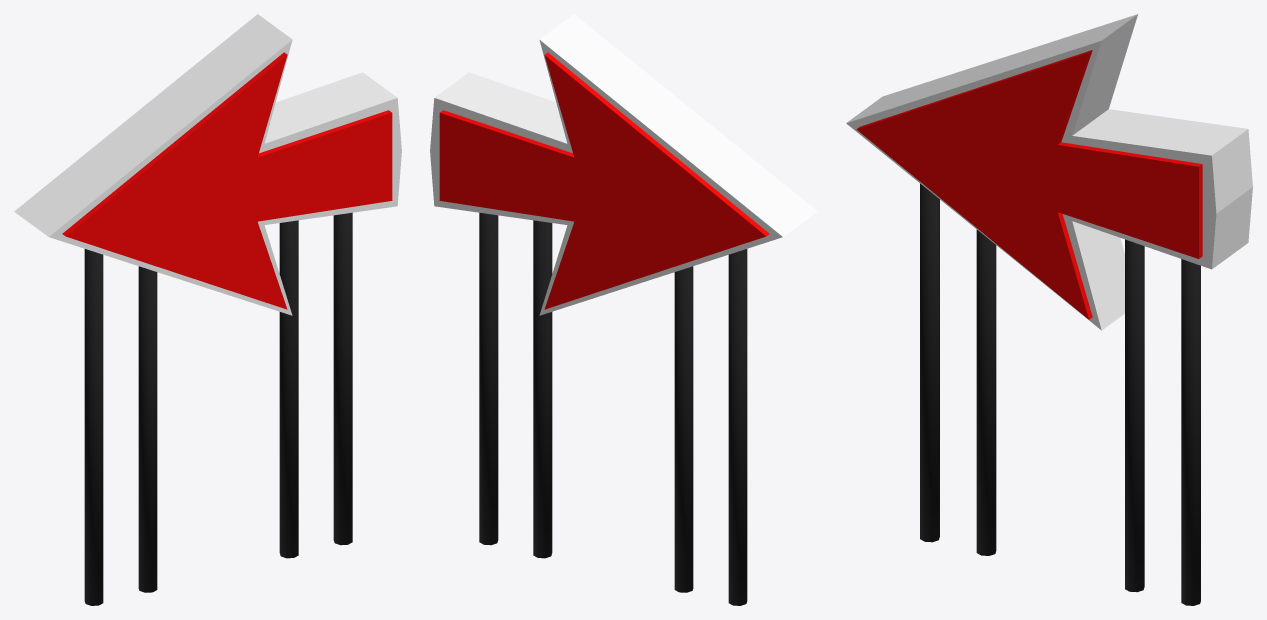
Rendered from blatantly_obvious_arrow.fbx.
3 views of the same model, side by side, from view 1: azimuth 30°, elevation 25°; view 2: azimuth 150°, elevation 25°; view 3: azimuth 330°, elevation 25° (orthographic). The views are drawn at different scales.
Parts seen in each view (by area): view 1: arrow, poles, border; view 2: arrow, poles, border; view 3: arrow, poles, border.
Part boxes in pixels (x1,y1,x2,y2): arrow: [62, 52, 392, 309]; poles: [84, 212, 352, 605]; border: [14, 14, 401, 315]; arrow: [439, 52, 769, 309]; poles: [479, 212, 747, 605]; border: [430, 14, 817, 315]; arrow: [856, 50, 1202, 319]; poles: [920, 183, 1200, 605]; border: [846, 14, 1252, 330].
Bounding box in the file's own units: 293 × 59.98 × 420.
